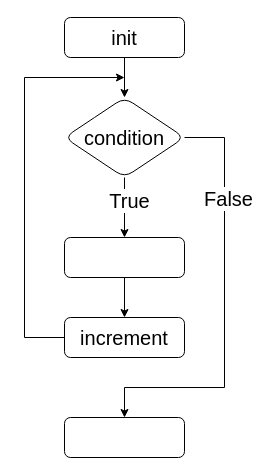
Image size: 270x475. Some labels were removed from this diagram. The centre of each missing label's shape, as x and y in pixels:
finish: the point at 124,437
statements: the point at 124,257
